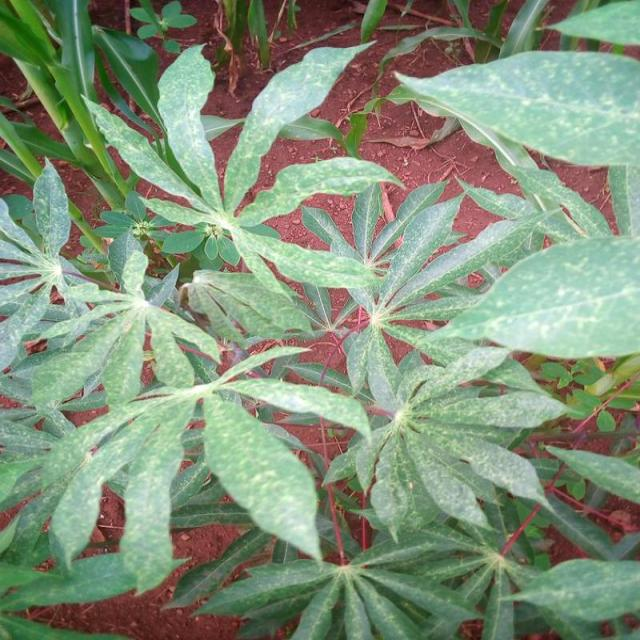cassava leaf: (0, 8, 638, 637), (392, 48, 638, 170), (418, 232, 638, 362), (201, 391, 322, 562)
